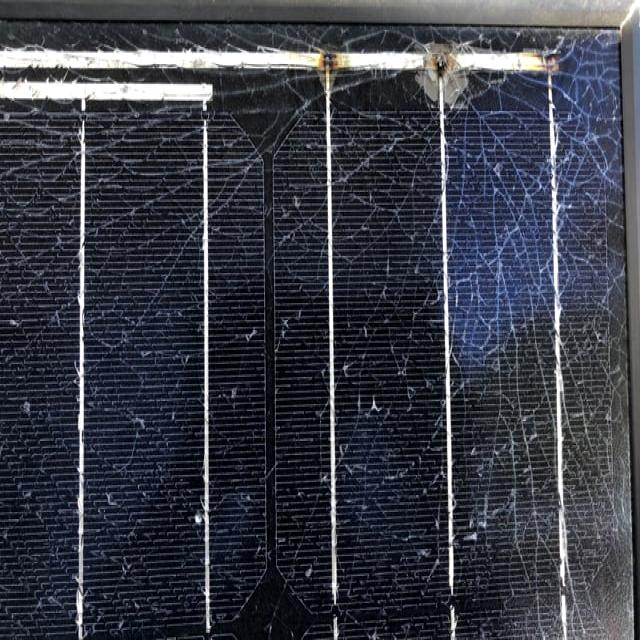bird: (420, 46, 477, 108), (309, 32, 358, 100)
shadow: (526, 38, 585, 100)
